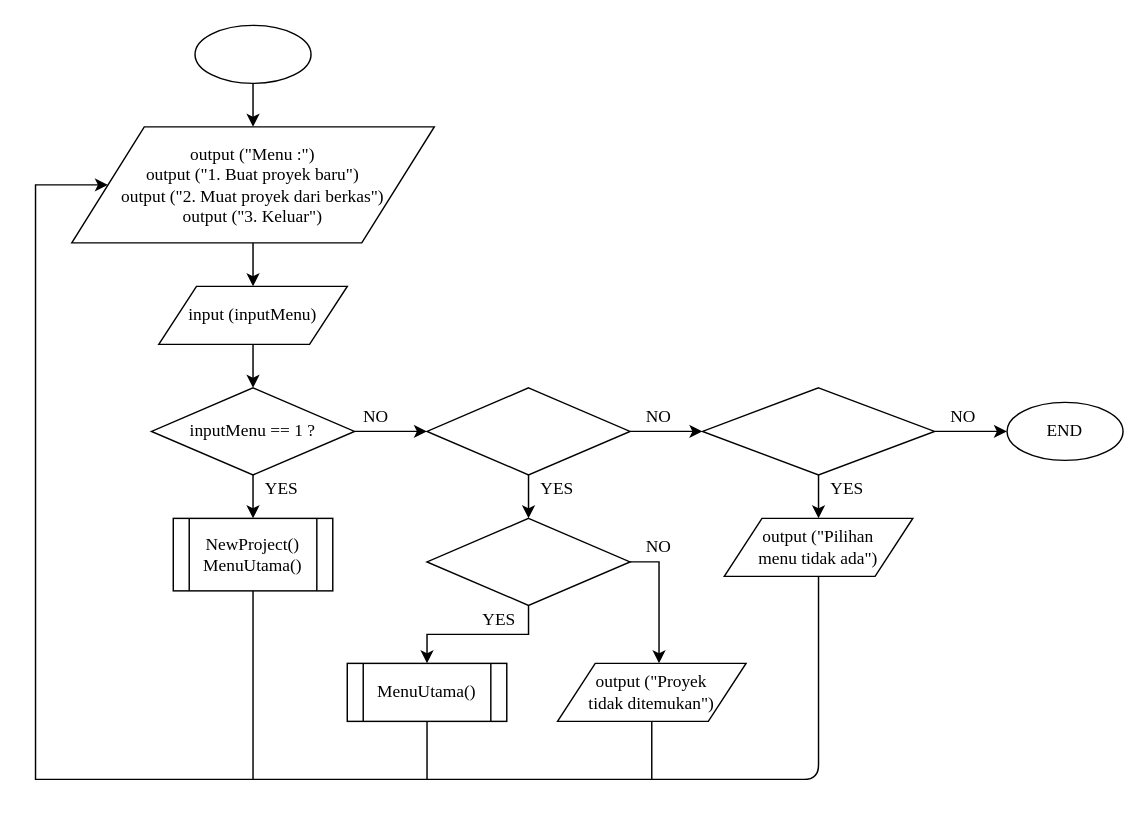
Image size: 1148x816. Some labels were removed from this diagram. Here are the shapes that lost their labels. From the top down, the box of each, then its label:
(194, 24, 311, 83): START
(426, 386, 630, 475): inputMenu == 2 ?
(701, 386, 935, 475): inputMenu > 3 || inputMenu < 1 ?
(426, 517, 630, 605): LoadProject() == 1?
